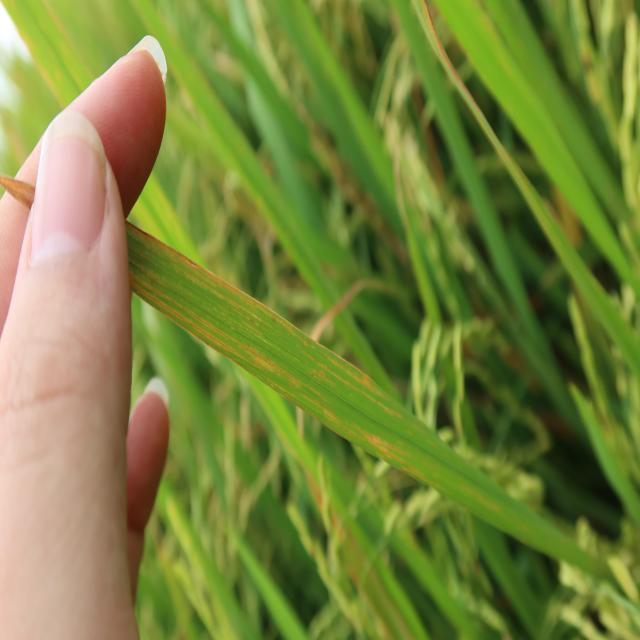Dom soc vi khuan: (126, 221, 590, 565)
